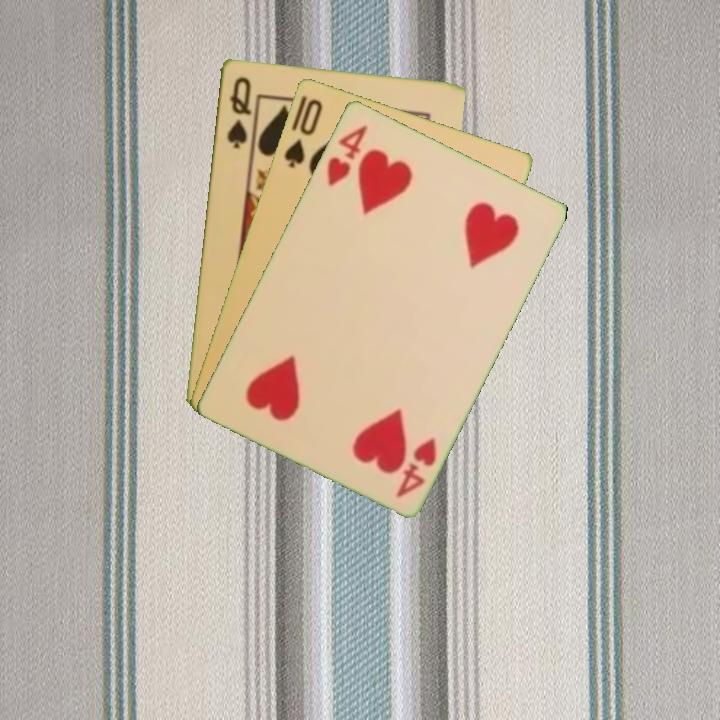10s: (280, 95, 325, 171)
4h: (323, 121, 371, 189), (392, 433, 440, 500)
Qs: (223, 72, 254, 151)
